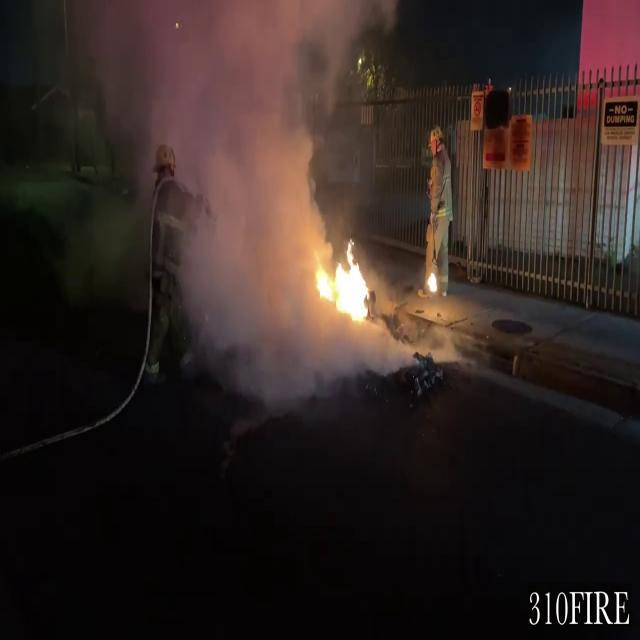Fire: (314, 238, 376, 328), (424, 263, 441, 301)
Smoke: (93, 1, 377, 400)
